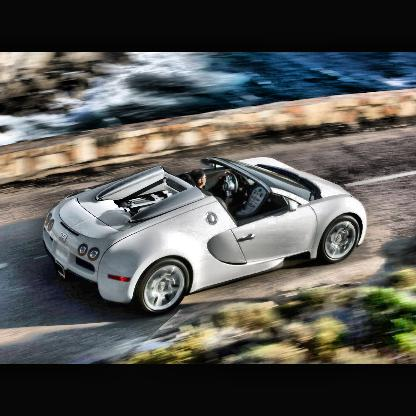Bugatti Veyron 16-4 Convertible 2009: (45, 156, 368, 316)
